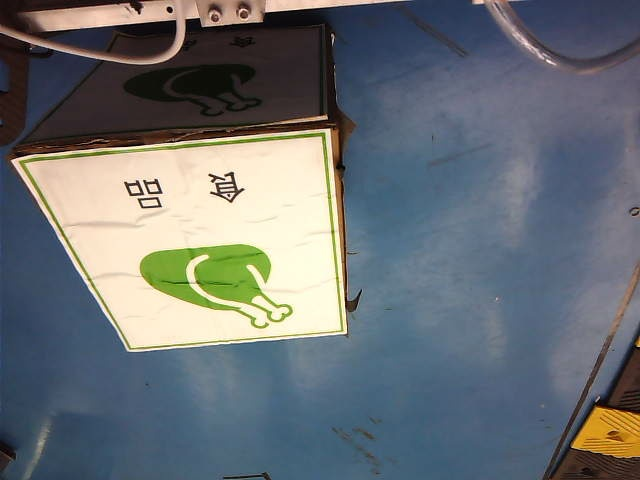Cube_food: (118, 154, 304, 338)
